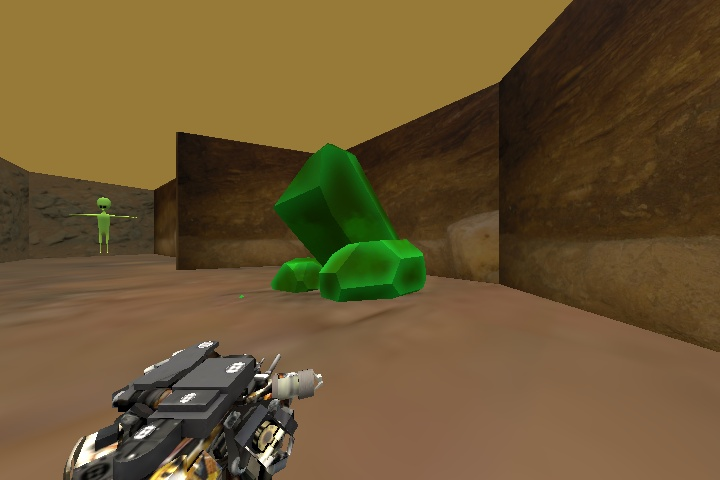alien: (66, 195, 137, 255)
gem: (269, 140, 427, 297)
